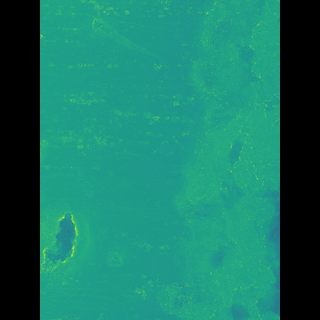Loch: (157, 0, 250, 320), (70, 197, 105, 282)
